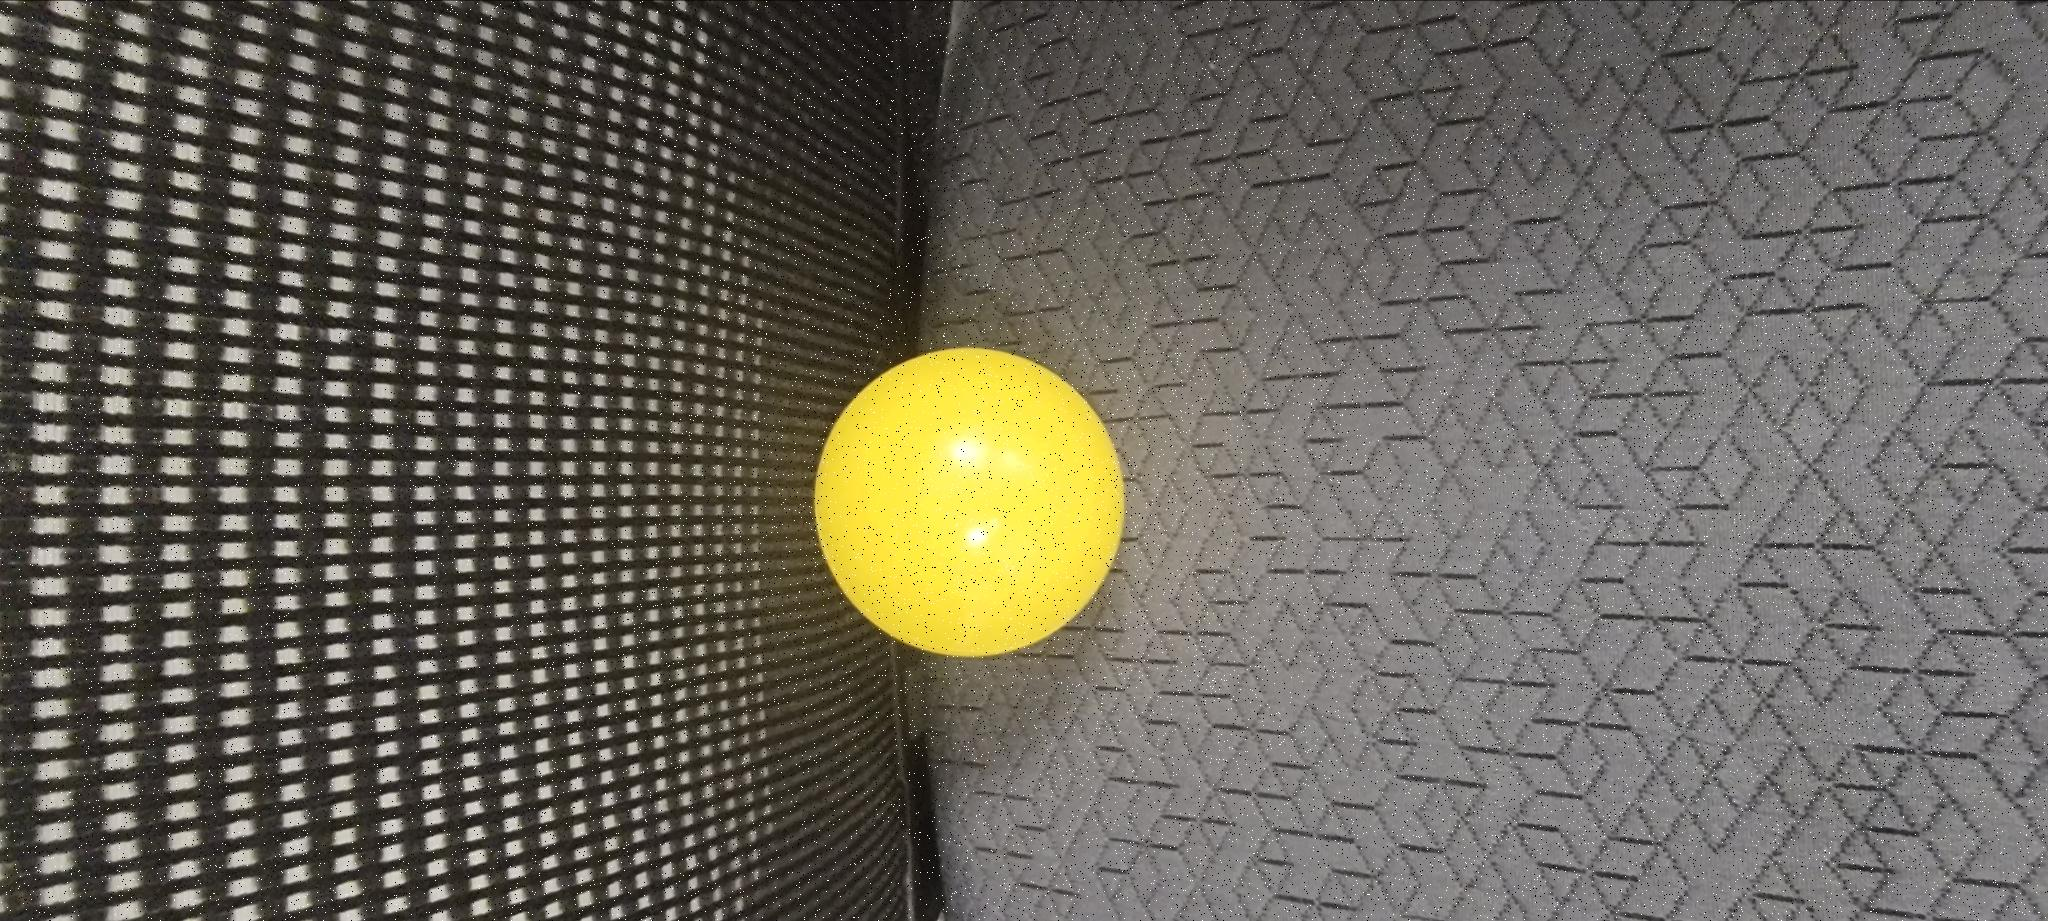Yellow-Ball: (263, 807, 571, 921)
